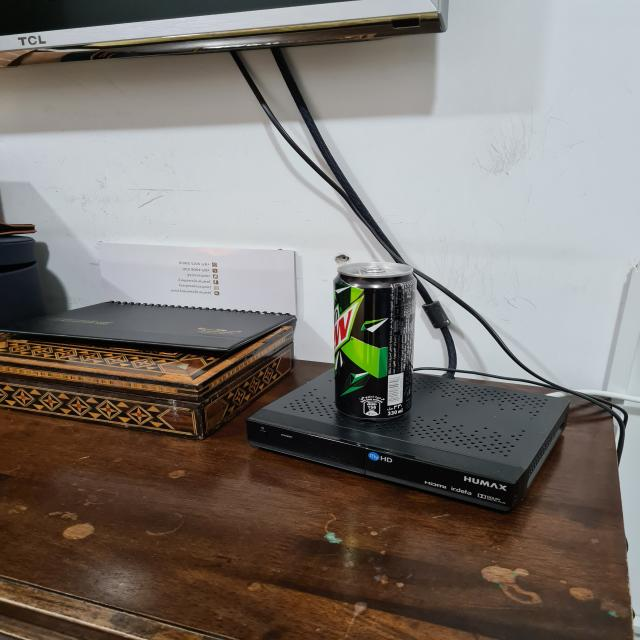non-organic waste: (325, 260, 419, 420)
